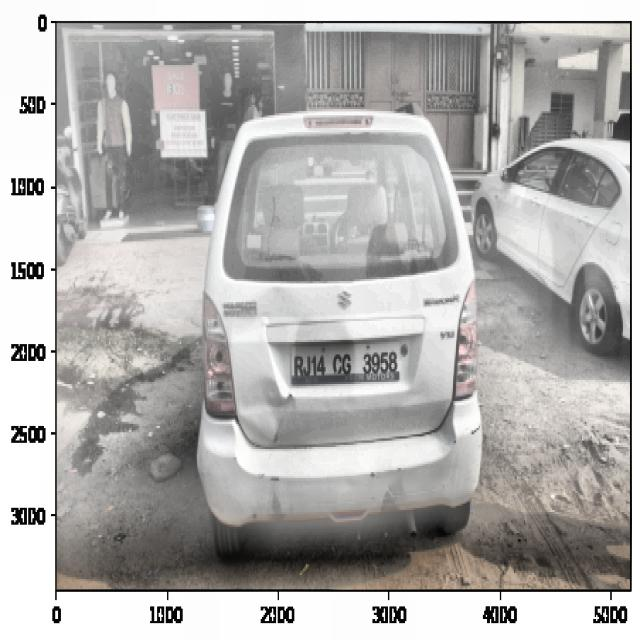license_plate: (291, 349, 399, 380)
